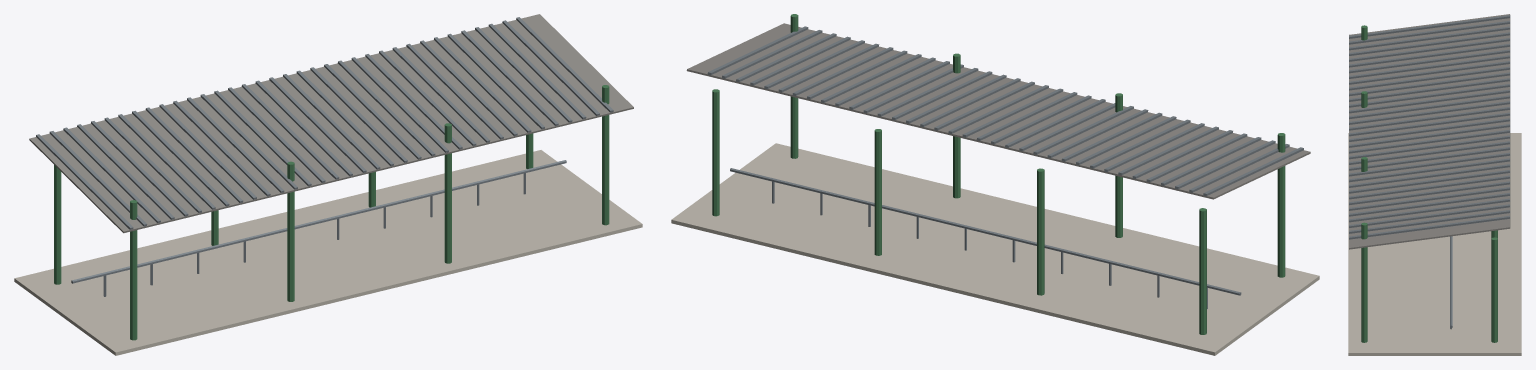
File: BikeShelter.fbx
The picture shows the model from 3 angles, left to right: view 1: azimuth 30°, elevation 25°; view 2: azimuth 150°, elevation 25°; view 3: azimuth 270°, elevation 25°; orthographic projection. The views are drawn at different scales.
Parts seen in each view (by area): view 1: BikeShelter; view 2: BikeShelter; view 3: BikeShelter.
Boxes of the visible parts, box(x1,y1,x2,y2) form: BikeShelter: box(14, 14, 642, 355); BikeShelter: box(671, 14, 1319, 355); BikeShelter: box(1348, 14, 1521, 355).
Size of the model in its own units: 9.6 by 2.58 by 3.2.
